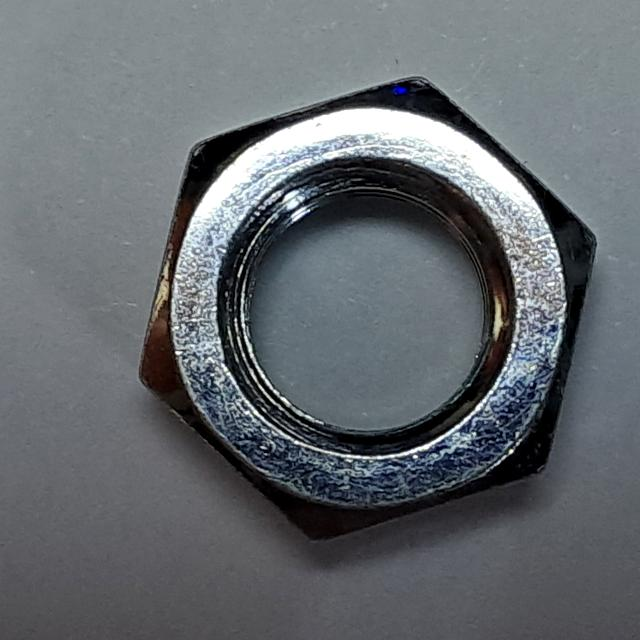Excellent: (132, 51, 615, 557)
